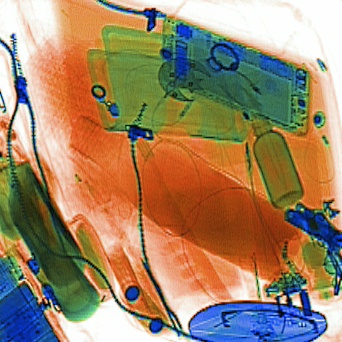powerbank: (1, 244, 67, 341)
